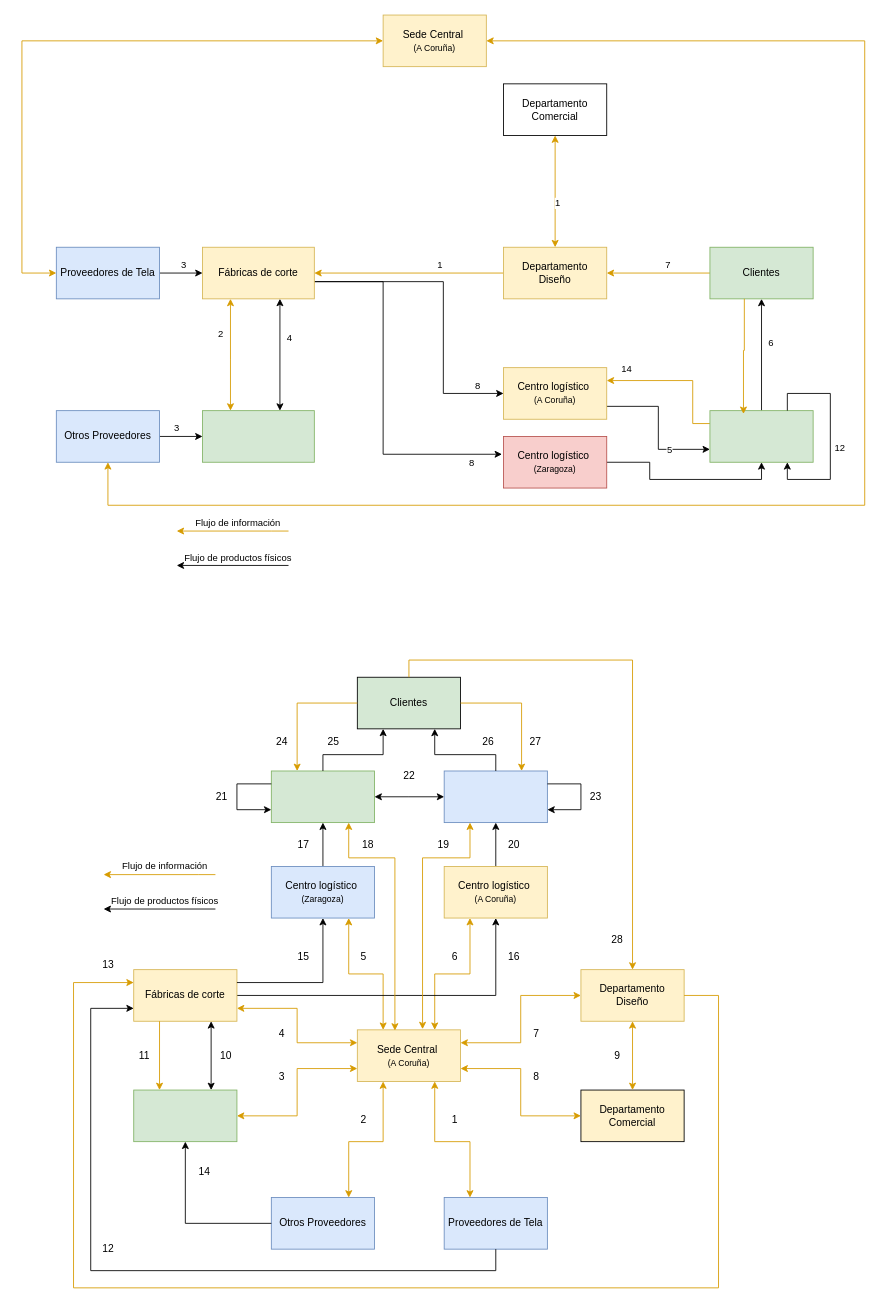
The diagram is 888 pixels wide and 1310 high, and some of its shapes have lost their labels. Each missing label, with the box of its shape:
Red de Talleres de Confección (Subcontratados y exclusivos): (202, 410, 314, 462)
Talleres confección (Sub. y exclusivos): (133, 1089, 237, 1142)
Tiendas físicas: (709, 410, 813, 462)
Tiendas físicas (Europa): (443, 770, 547, 823)
Tiendas físicas (Resto mundo): (270, 770, 375, 823)
